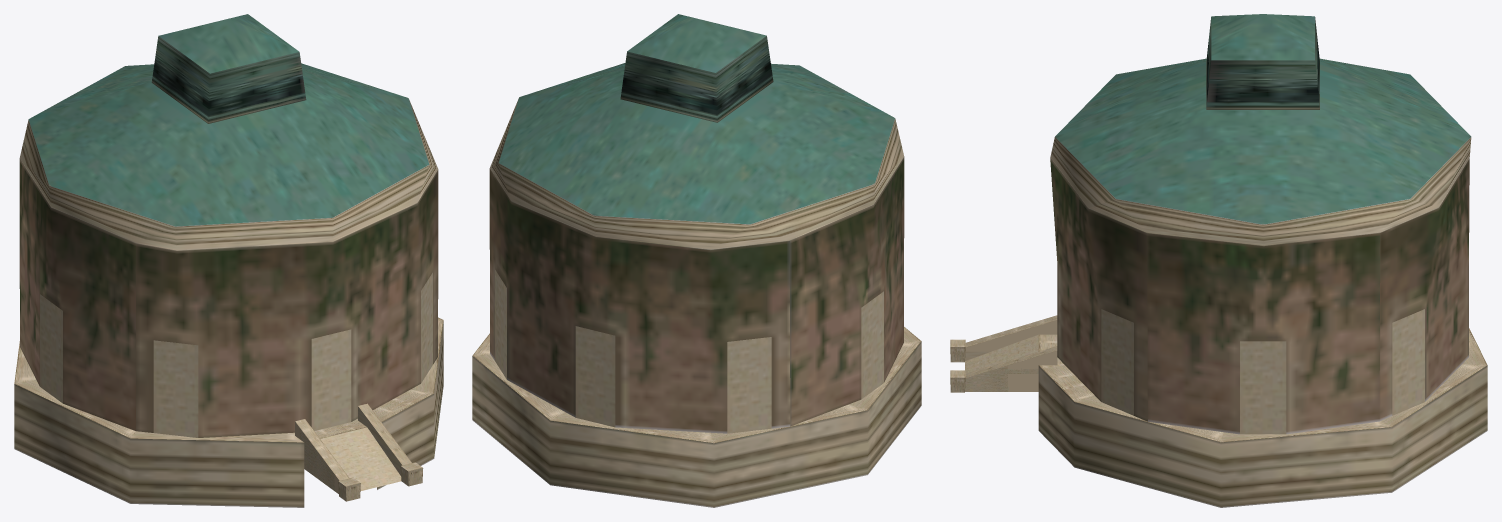
File: thm_nboo_thed_imprv_building_s02_l3.fbx
The picture shows the model from 3 angles, left to right: view 1: azimuth 30°, elevation 25°; view 2: azimuth 150°, elevation 25°; view 3: azimuth 270°, elevation 25°; orthographic projection.
Parts seen in each view (by area): view 1: mesh_node; view 2: mesh_node; view 3: mesh_node.
Part boxes in pixels (<box>): mesh_node: <box>14,14,443,507</box>; mesh_node: <box>472,14,921,507</box>; mesh_node: <box>950,14,1487,507</box>.
Bounding box in the file's own units: 13.09 × 12.83 × 15.66.
1 material, 1 textured.
